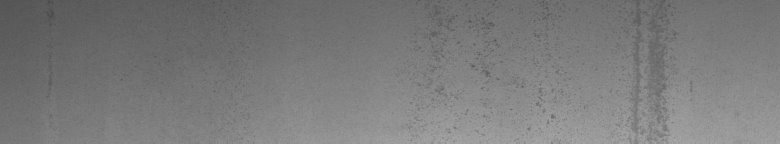ib: (424, 8, 560, 133)
